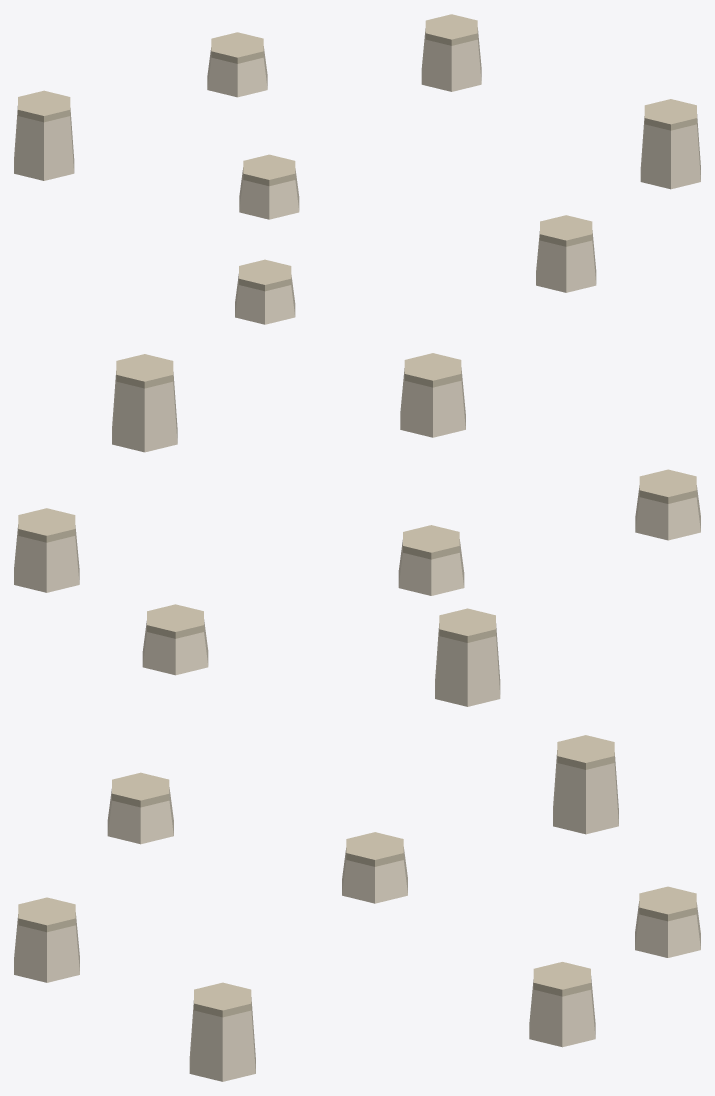
The model's file is mushroom-harvested.glb.
3 views of the same model, one above another, from view 1: azimuth 30°, elevation 25°; view 2: azimuth 150°, elevation 25°; view 3: azimuth 270°, elevation 25° (orthographic). The views are drawn at different scales.
Visible parts, largest first — view 1: mushroom-harvested; view 2: mushroom-harvested; view 3: mushroom-harvested.
Boxes of the visible parts, bbox=[...] form: mushroom-harvested: bbox=[14, 14, 700, 324]; mushroom-harvested: bbox=[14, 353, 700, 706]; mushroom-harvested: bbox=[14, 735, 700, 1081].
Bounding box in the file's own units: 0.52 × 0.06 × 0.5396.
Materials: 1 (1 with a texture image).
